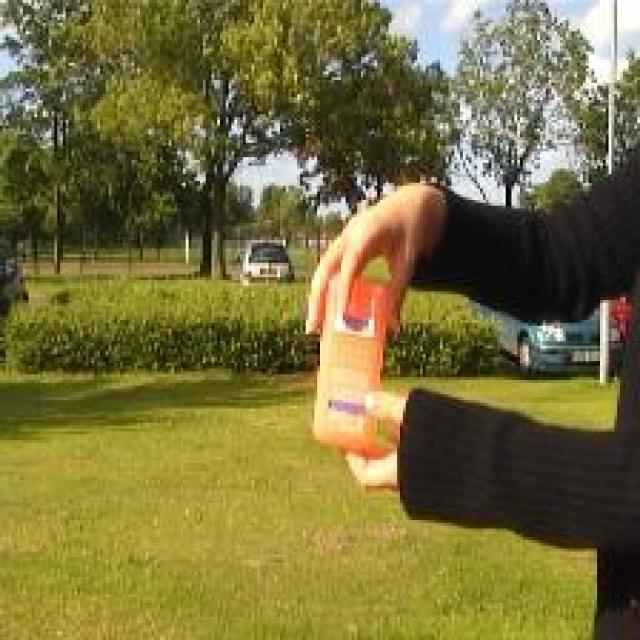other: (302, 246, 390, 464)
